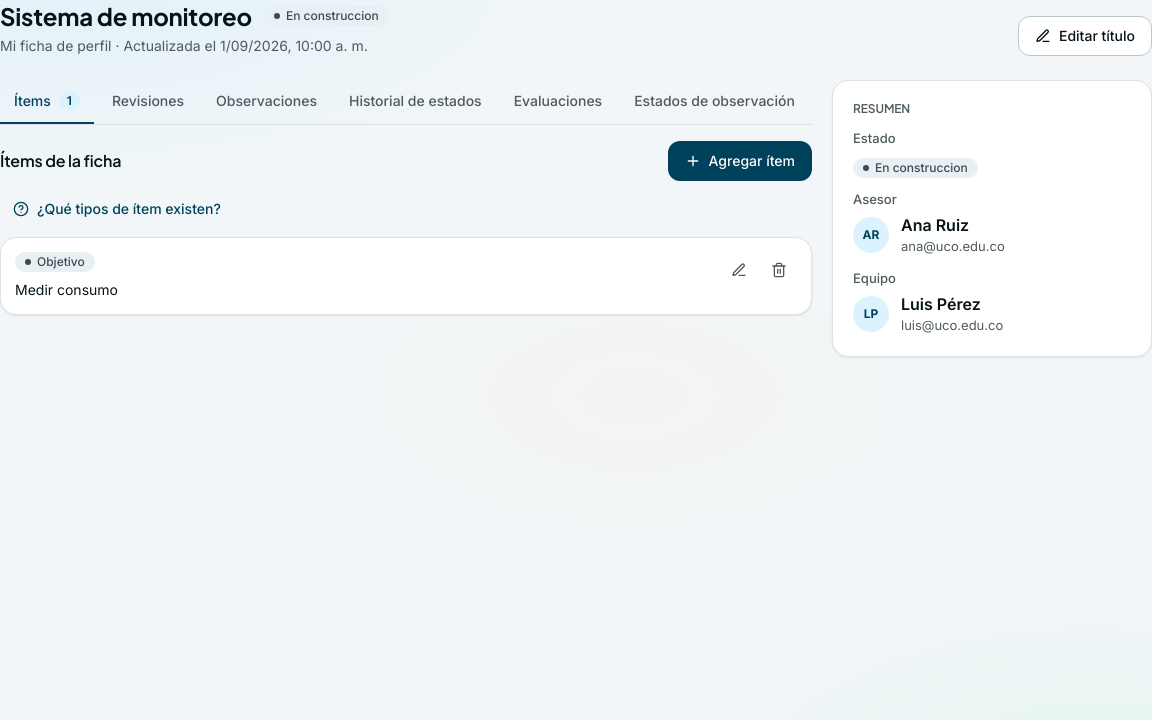
EstudianteView › «Editar título» abre el panel y guarda el nuevo título
Click the button "Editar título". click: coordinates (1085, 36)
box: top-left (1018, 16), bottom-right (1151, 56)
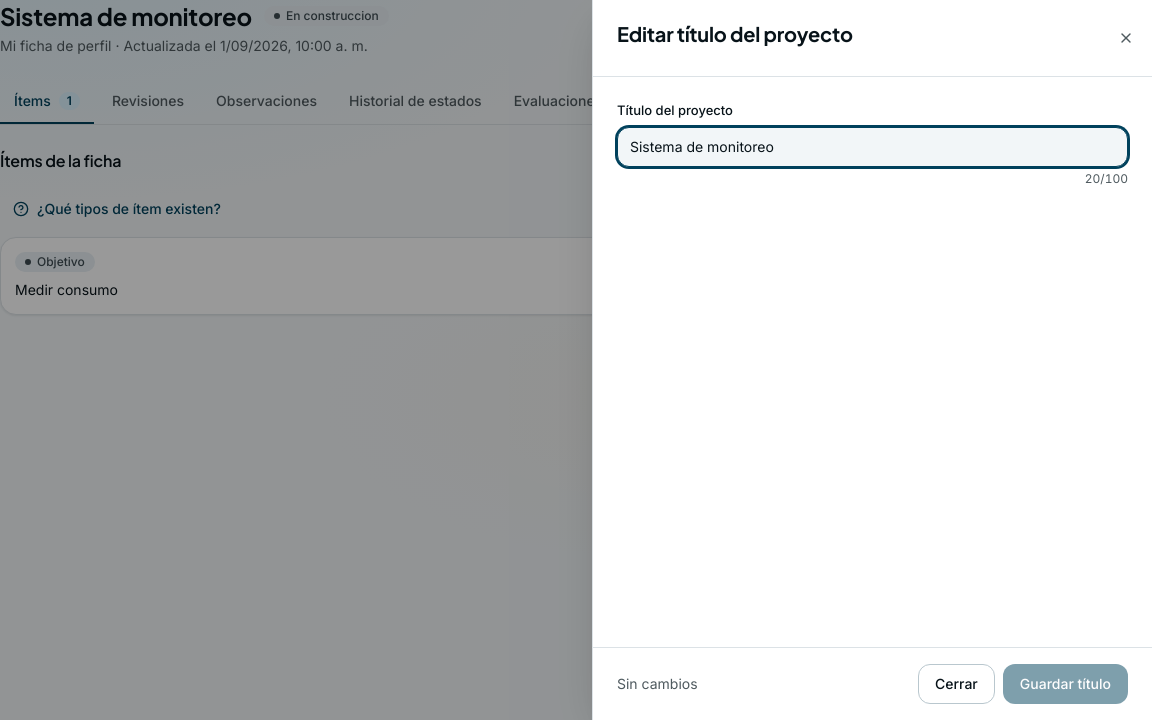
Type " 2" into the field labelled "Título del proyecto". click: coordinates (872, 146)
box: top-left (617, 126), bottom-right (1128, 166)
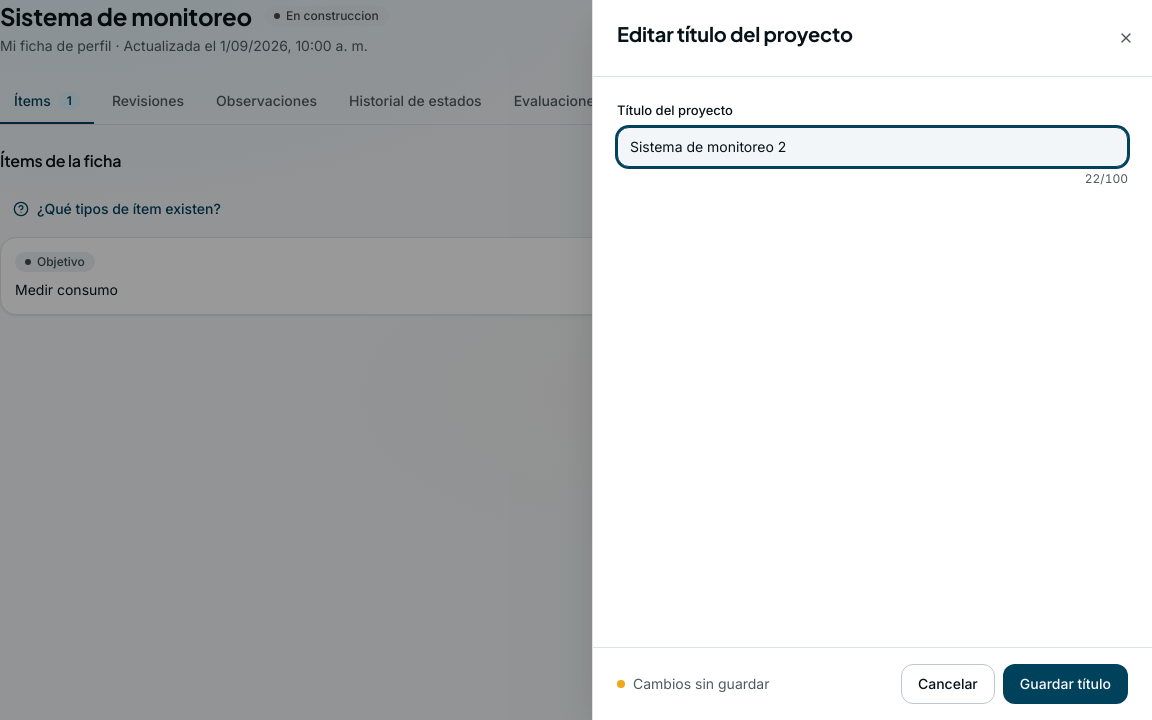
Click the button "Guardar título". click: coordinates (1065, 684)
box: top-left (1003, 664), bottom-right (1128, 704)
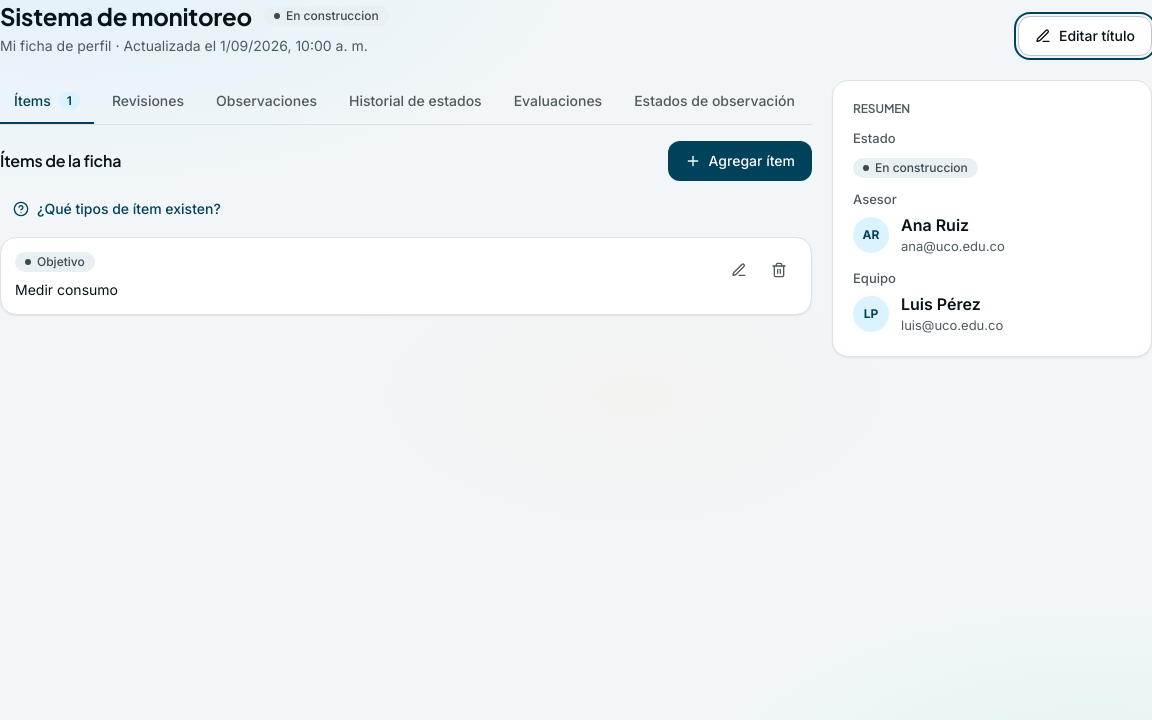
Expected: the dialog is gone
